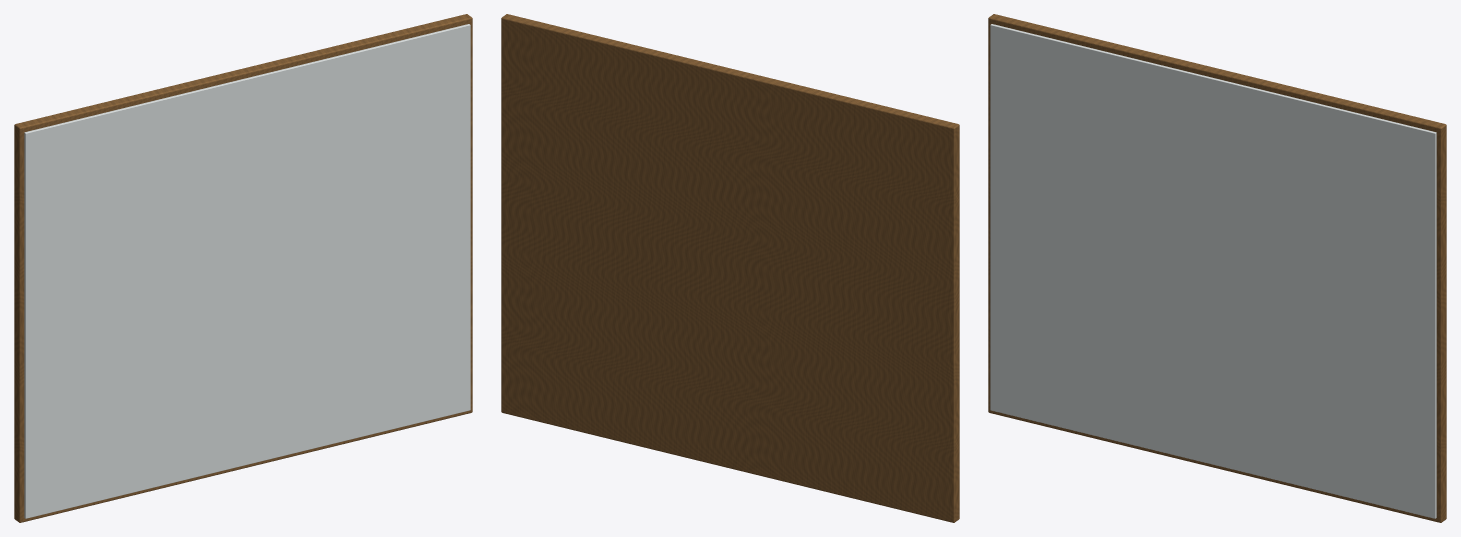
File: wall-mirror.glb
3 renders of one model, left to right at view 1: azimuth 30°, elevation 25°; view 2: azimuth 150°, elevation 25°; view 3: azimuth 330°, elevation 25°, orthographic.
Visible parts, largest first — view 1: wall-mirror · mirror.001, wall-mirror · oak.001; view 2: wall-mirror · oak.001; view 3: wall-mirror · mirror.001, wall-mirror · oak.001.
Boxes of the visible parts, x1,y1,x2,y2 form: wall-mirror · mirror.001: (24,24,470,518); wall-mirror · oak.001: (14,14,472,522); wall-mirror · oak.001: (501,14,959,522); wall-mirror · mirror.001: (990,24,1436,518); wall-mirror · oak.001: (988,14,1446,522).
Bounding box in the file's own units: 1.2 × 1 × 0.035.
2 materials, 1 textured.
